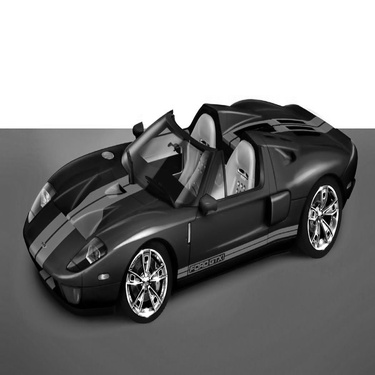car: (16, 87, 365, 328)
